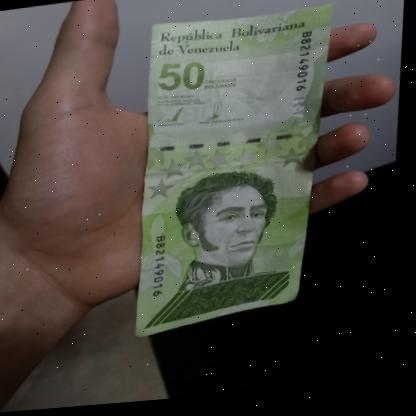fifty-front-vef: (125, 4, 351, 340)
